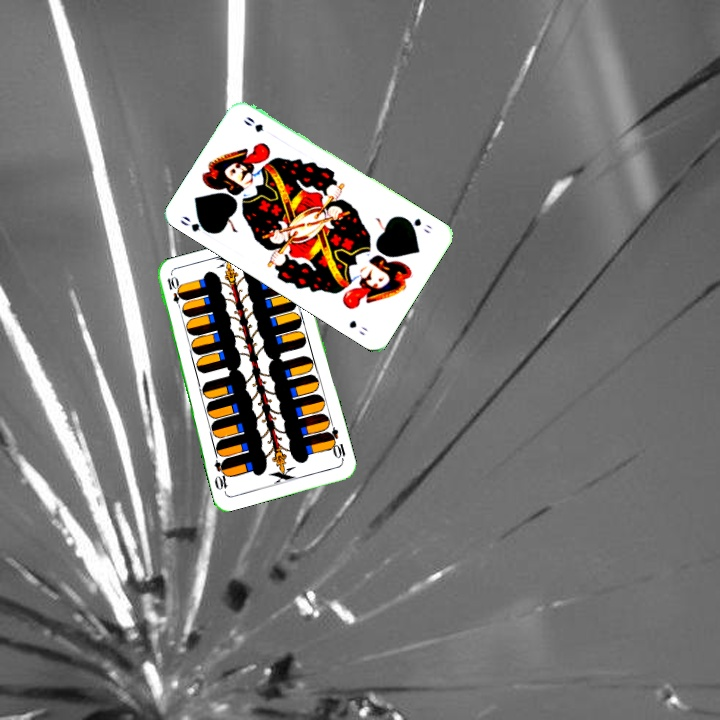E10: (323, 424, 349, 464), (163, 272, 185, 313)
GO: (176, 212, 215, 236), (400, 213, 434, 236)
